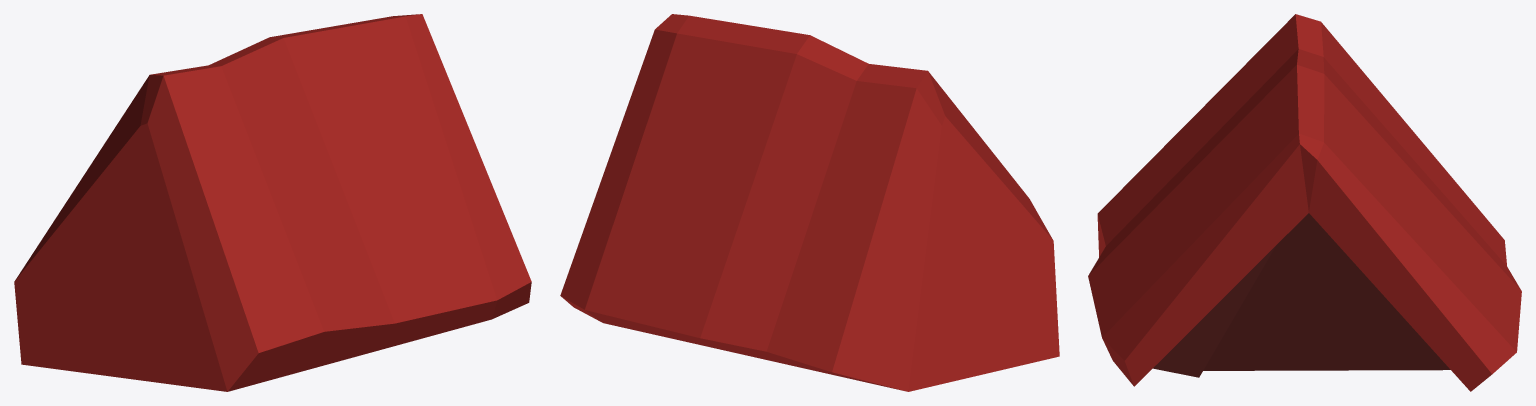
Rendered from tent2.fbx.
The picture shows the model from 3 angles, left to right: view 1: azimuth 30°, elevation 25°; view 2: azimuth 150°, elevation 25°; view 3: azimuth 270°, elevation 25°; orthographic projection. The views are drawn at different scales.
Parts seen in each view (by area): view 1: Cube.001; view 2: Cube.001; view 3: Cube.001.
Part boxes in pixels (x1=…): Cube.001: x1=14, y1=14, x2=531, y2=391; Cube.001: x1=560, y1=14, x2=1059, y2=391; Cube.001: x1=1088, y1=14, x2=1521, y2=391.
Size of the model in its own units: 486 by 291 by 435.
